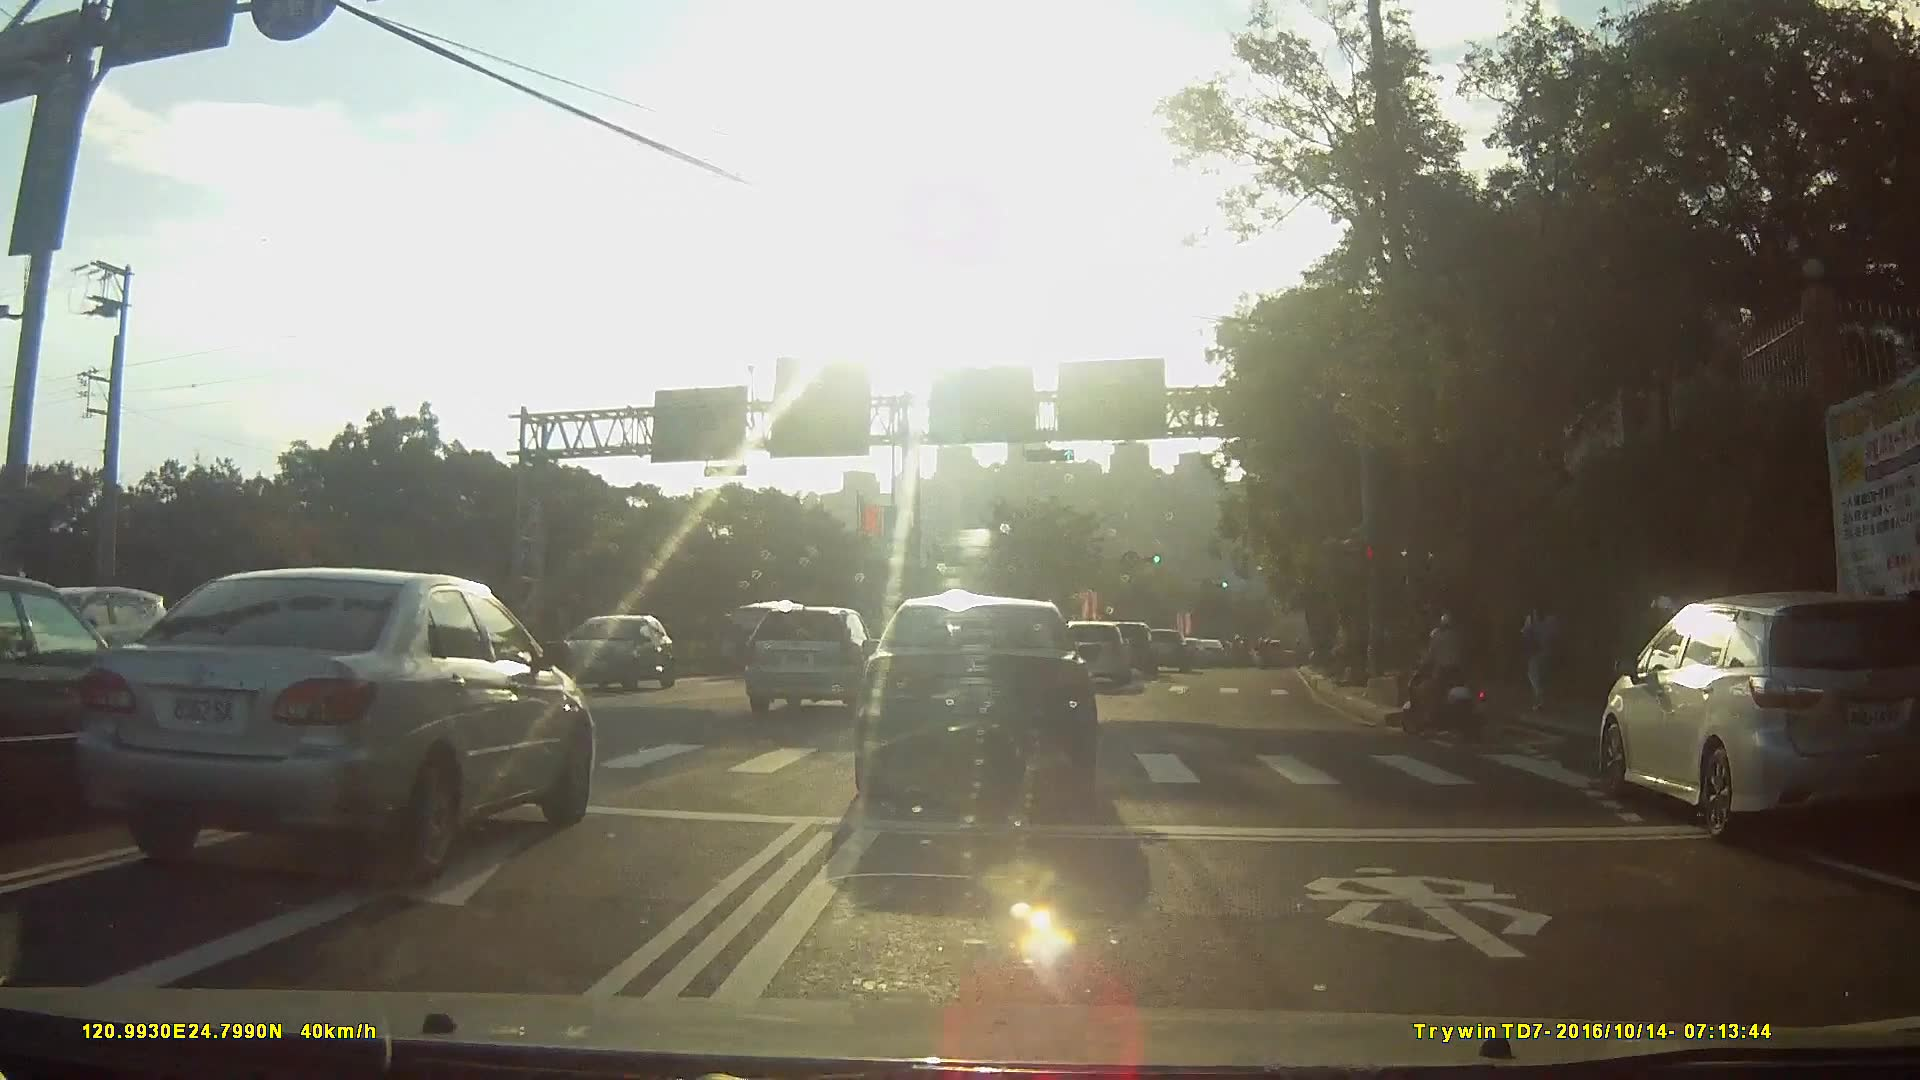pedestrian: (1519, 594, 1566, 720)
rider: (1405, 617, 1507, 752)
vehicle: (77, 568, 609, 880), (1593, 587, 1890, 866), (858, 598, 1114, 816), (1, 573, 168, 818), (752, 604, 895, 713), (551, 614, 698, 703), (1066, 622, 1140, 692), (1108, 621, 1170, 679), (1146, 628, 1202, 672), (1197, 639, 1235, 667)
